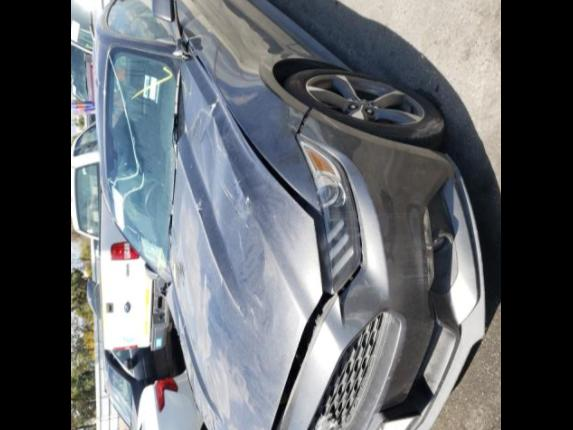Broken part: (276, 106, 486, 430), (220, 92, 336, 430)
Dent: (244, 212, 282, 334), (202, 110, 228, 208)
Scratch: (180, 146, 240, 306), (218, 176, 246, 224), (230, 166, 262, 204), (234, 224, 254, 274), (241, 306, 264, 342), (254, 292, 278, 316)
